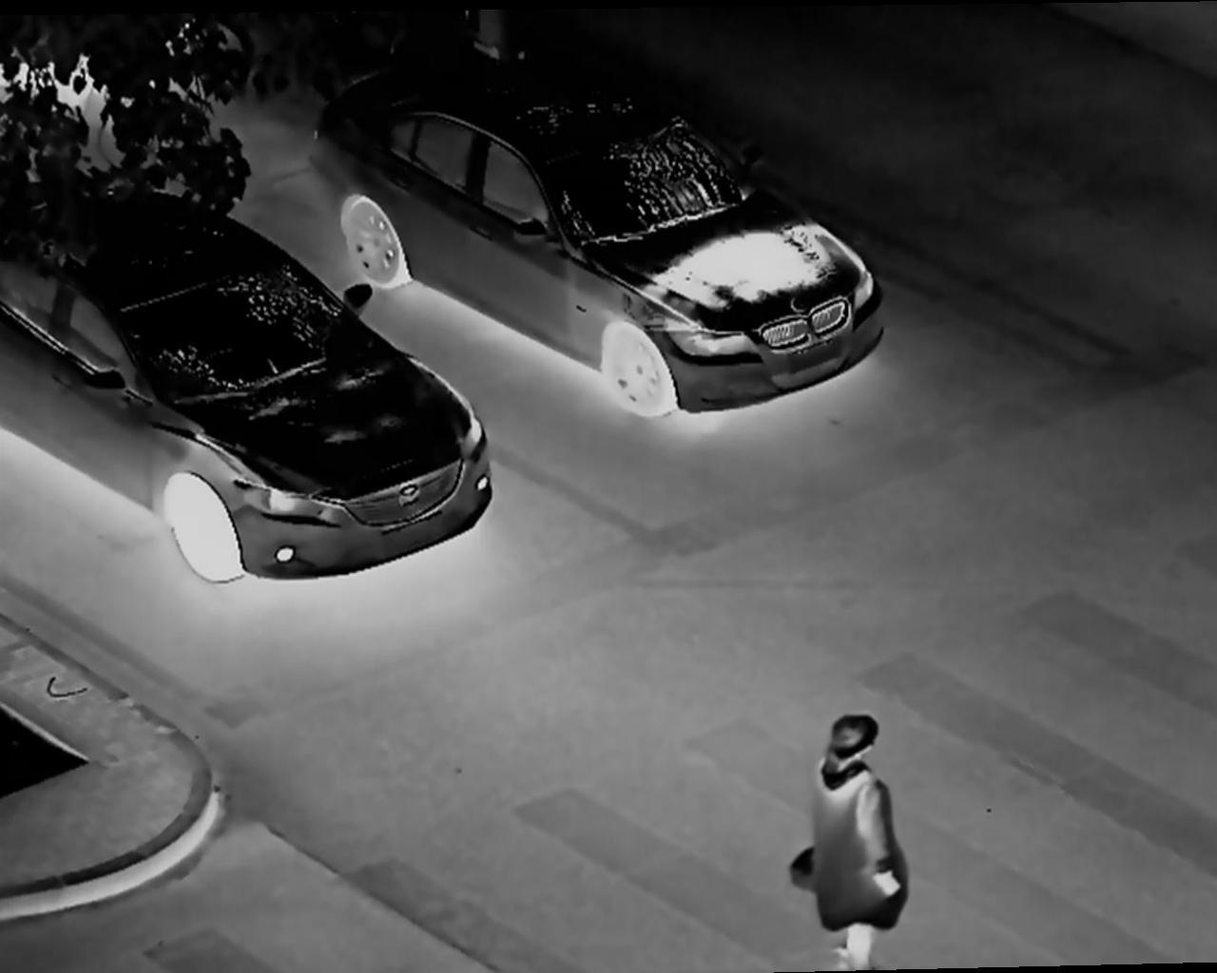person: (800, 706, 913, 973)
